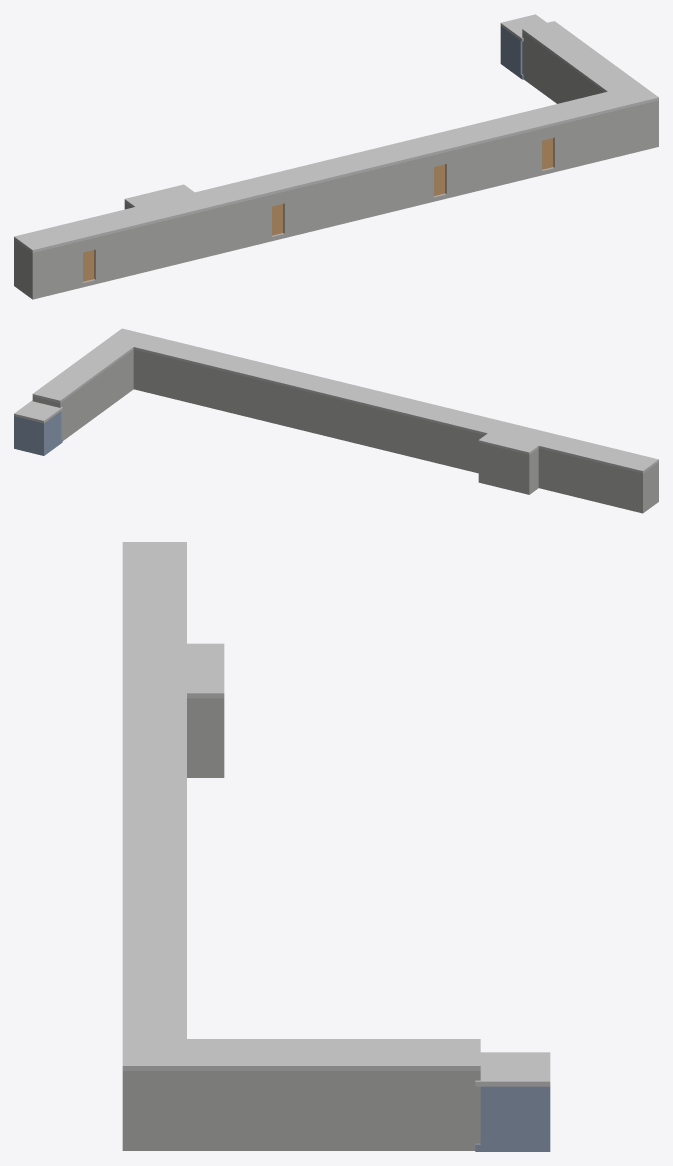
Rendered from service_corridor.glb.
3 views of the same model, one above another, from view 1: azimuth 30°, elevation 25°; view 2: azimuth 150°, elevation 25°; view 3: azimuth 270°, elevation 25° (orthographic). The views are drawn at different scales.
Visible parts, largest first — view 1: Corridor_Ceiling, Corridor_Wall_S_3, Corridor_Wall_S_5, Corridor_Wall_S_9, Corridor_Wall_S_7, Corridor_Floor, Spur_Ceiling, Spur_Wall_W_1, Corridor_Wall_S_1, BinBay_Ceiling, FreightCar_Wall_W_1, Corridor_Wall_W_1 (+1 smaller); view 2: Corridor_Wall_N_2, Corridor_Ceiling, Corridor_Wall_N_1, Spur_Wall_W_1, Spur_Ceiling, Corridor_Floor, BinBay_Wall_N_1, FreightCar_Wall_N_1, BinBay_Ceiling, FreightCar_Ceiling, Corridor_Wall_W_1, FreightCar_Wall_W_1 (+2 smaller); view 3: Corridor_Ceiling, Spur_Wall_E_1, Spur_Ceiling, Corridor_Wall_E_1, FreightCar_Wall_E_1, FreightCar_Ceiling, BinBay_Ceiling, BinBay_Wall_E_1, Spur_Floor.
Boxes of the visible parts, x1=… form: Corridor_Ceiling: x1=14, y1=84, x2=658, y2=252; Corridor_Wall_S_3: x1=94, y1=194, x2=271, y2=279; Corridor_Wall_S_5: x1=283, y1=155, x2=433, y2=233; Corridor_Wall_S_9: x1=553, y1=100, x2=658, y2=167; Corridor_Wall_S_7: x1=445, y1=129, x2=541, y2=194; Corridor_Floor: x1=14, y1=142, x2=658, y2=299; Spur_Ceiling: x1=522, y1=21, x2=639, y2=92; Spur_Wall_W_1: x1=523, y1=33, x2=604, y2=102; Corridor_Wall_S_1: x1=31, y1=241, x2=82, y2=295; BinBay_Ceiling: x1=124, y1=184, x2=195, y2=207; FreightCar_Wall_W_1: x1=502, y1=27, x2=522, y2=74; Corridor_Wall_W_1: x1=15, y1=241, x2=30, y2=293; Corridor_Wall_N_2: x1=133, y1=349, x2=484, y2=469; Corridor_Ceiling: x1=106, y1=328, x2=658, y2=473; Corridor_Wall_N_1: x1=538, y1=448, x2=644, y2=509; Spur_Wall_W_1: x1=61, y1=349, x2=133, y2=437; Spur_Ceiling: x1=32, y1=340, x2=135, y2=402; Corridor_Floor: x1=133, y1=386, x2=658, y2=513; BinBay_Wall_N_1: x1=478, y1=443, x2=530, y2=491; FreightCar_Wall_N_1: x1=14, y1=416, x2=45, y2=452; BinBay_Ceiling: x1=478, y1=432, x2=539, y2=454; FreightCar_Ceiling: x1=14, y1=400, x2=62, y2=423; Corridor_Wall_W_1: x1=644, y1=463, x2=657, y2=508; FreightCar_Wall_W_1: x1=45, y1=411, x2=61, y2=451; Corridor_Ceiling: x1=122, y1=542, x2=186, y2=1070; Spur_Wall_E_1: x1=181, y1=1071, x2=475, y2=1143; Spur_Ceiling: x1=176, y1=1039, x2=480, y2=1070; Corridor_Wall_E_1: x1=128, y1=1071, x2=181, y2=1143; FreightCar_Wall_E_1: x1=480, y1=1086, x2=544, y2=1144; FreightCar_Ceiling: x1=475, y1=1052, x2=550, y2=1086; BinBay_Ceiling: x1=181, y1=643, x2=224, y2=698; BinBay_Wall_E_1: x1=187, y1=698, x2=218, y2=770; Spur_Floor: x1=176, y1=1143, x2=475, y2=1150.
Bounding box in the file's own units: 46.5 × 3.5 × 16.
